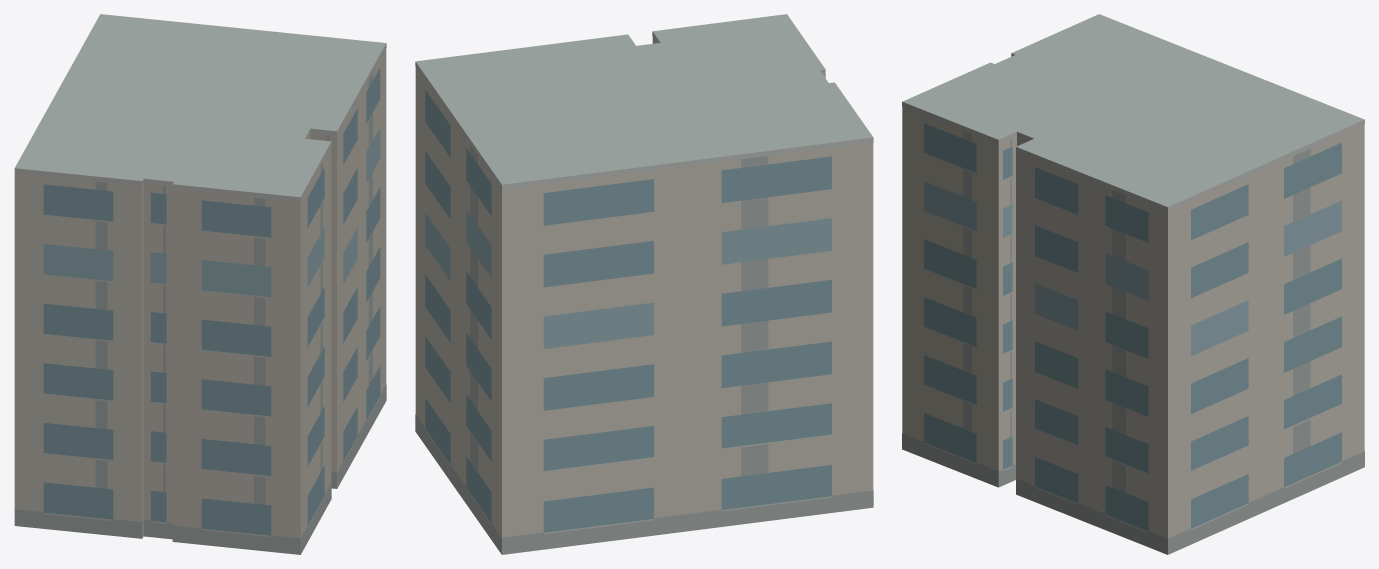
File: survey-upis-32947209.glb
3 renders of one model, left to right at view 1: azimuth 30°, elevation 25°; view 2: azimuth 150°, elevation 25°; view 3: azimuth 270°, elevation 25°, orthographic. The views are drawn at different scales.
Visible parts, largest first — view 1: survey-upis-32947209.tmp; view 2: survey-upis-32947209.tmp; view 3: survey-upis-32947209.tmp.
Boxes of the visible parts, bbox=[...] form: survey-upis-32947209.tmp: bbox=[14, 14, 386, 554]; survey-upis-32947209.tmp: bbox=[415, 14, 873, 554]; survey-upis-32947209.tmp: bbox=[902, 14, 1364, 554].
Size of the model in its own units: 20.62 by 17.3 by 20.86.
